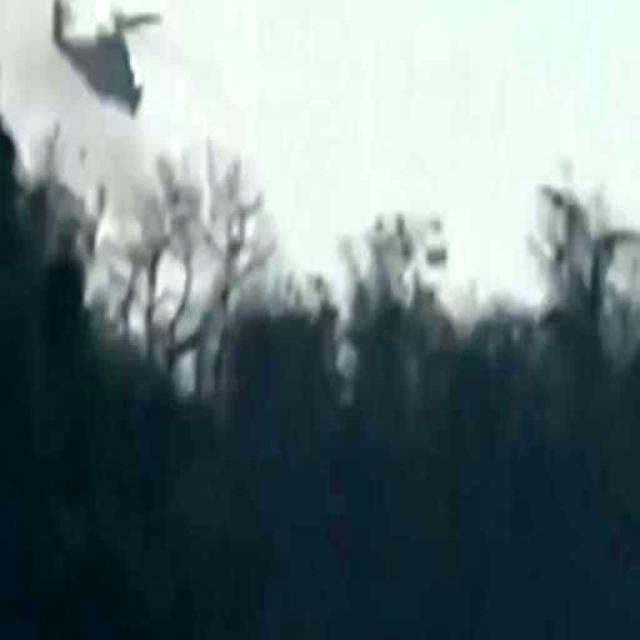drone: (50, 0, 166, 126)
